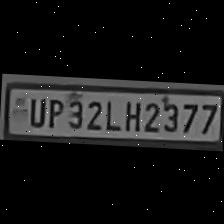2: (82, 96, 104, 130), (140, 98, 160, 132)
3: (158, 99, 180, 134), (64, 95, 84, 129)
7: (195, 100, 217, 134), (178, 99, 198, 133)
H: (120, 97, 142, 131)
L: (100, 96, 119, 132)
P: (44, 94, 64, 130)
U: (24, 93, 46, 127)
